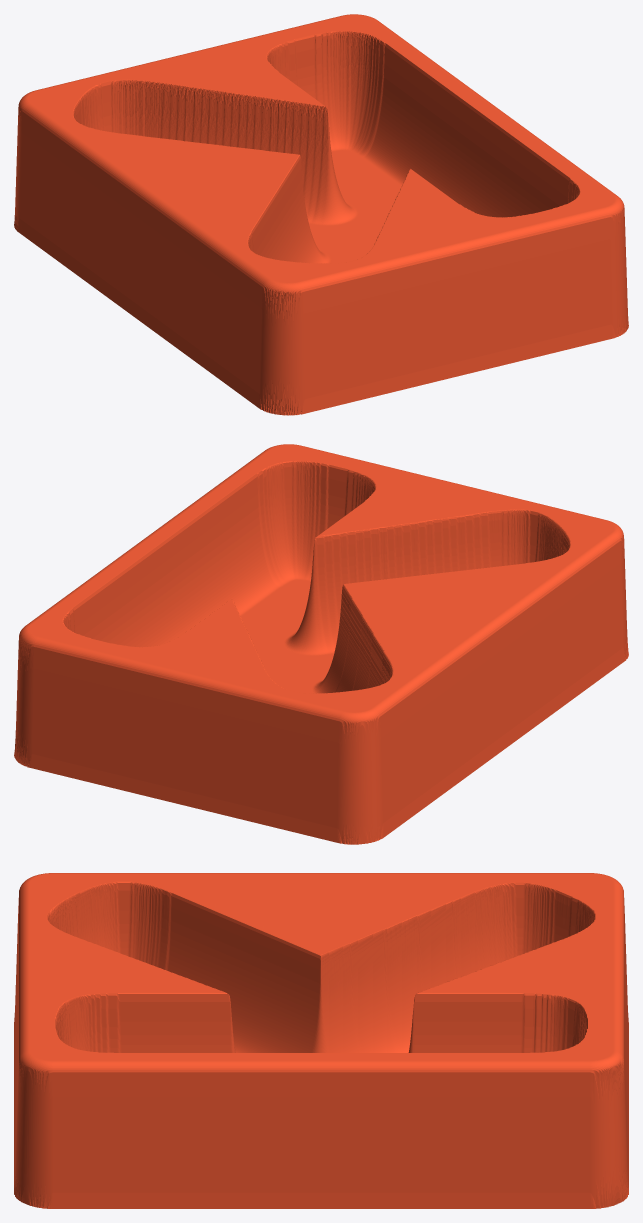
The model's file is mold.glb.
3 views of the same model, one above another, from view 1: azimuth 30°, elevation 25°; view 2: azimuth 150°, elevation 25°; view 3: azimuth 270°, elevation 25° (orthographic). The views are drawn at different scales.
Visible parts, largest first — view 1: geometry_0; view 2: geometry_0; view 3: geometry_0.
Boxes of the visible parts, bbox=[...] form: geometry_0: bbox=[14, 14, 628, 415]; geometry_0: bbox=[14, 444, 628, 844]; geometry_0: bbox=[14, 873, 628, 1208].
Size of the model in its own units: 0.1103 by 0.0365 by 0.1435.
